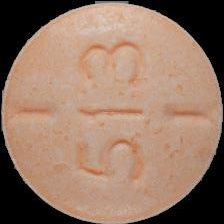51138-040: (0, 0, 224, 224)
